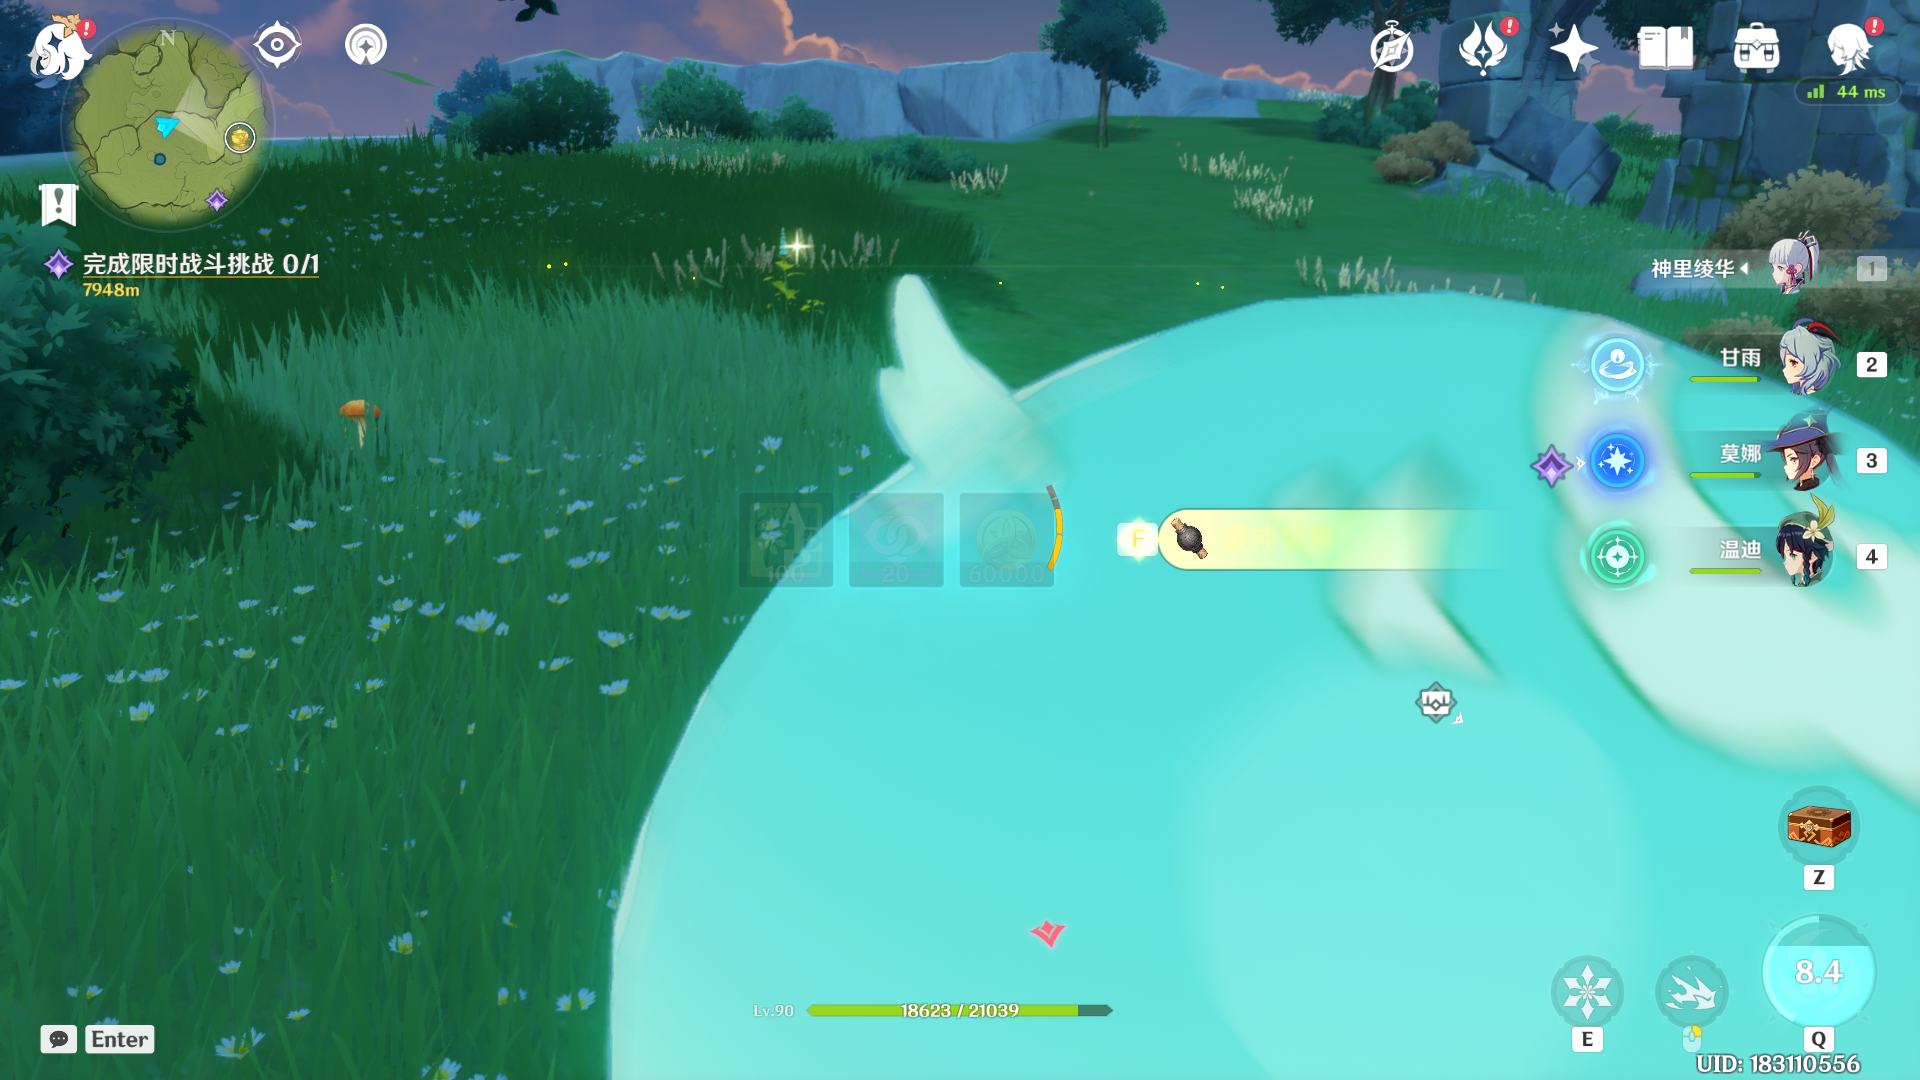slime: (545, 206, 1920, 1080)
